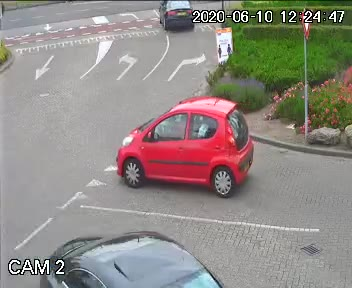car: (112, 93, 252, 192), (34, 230, 229, 288)
